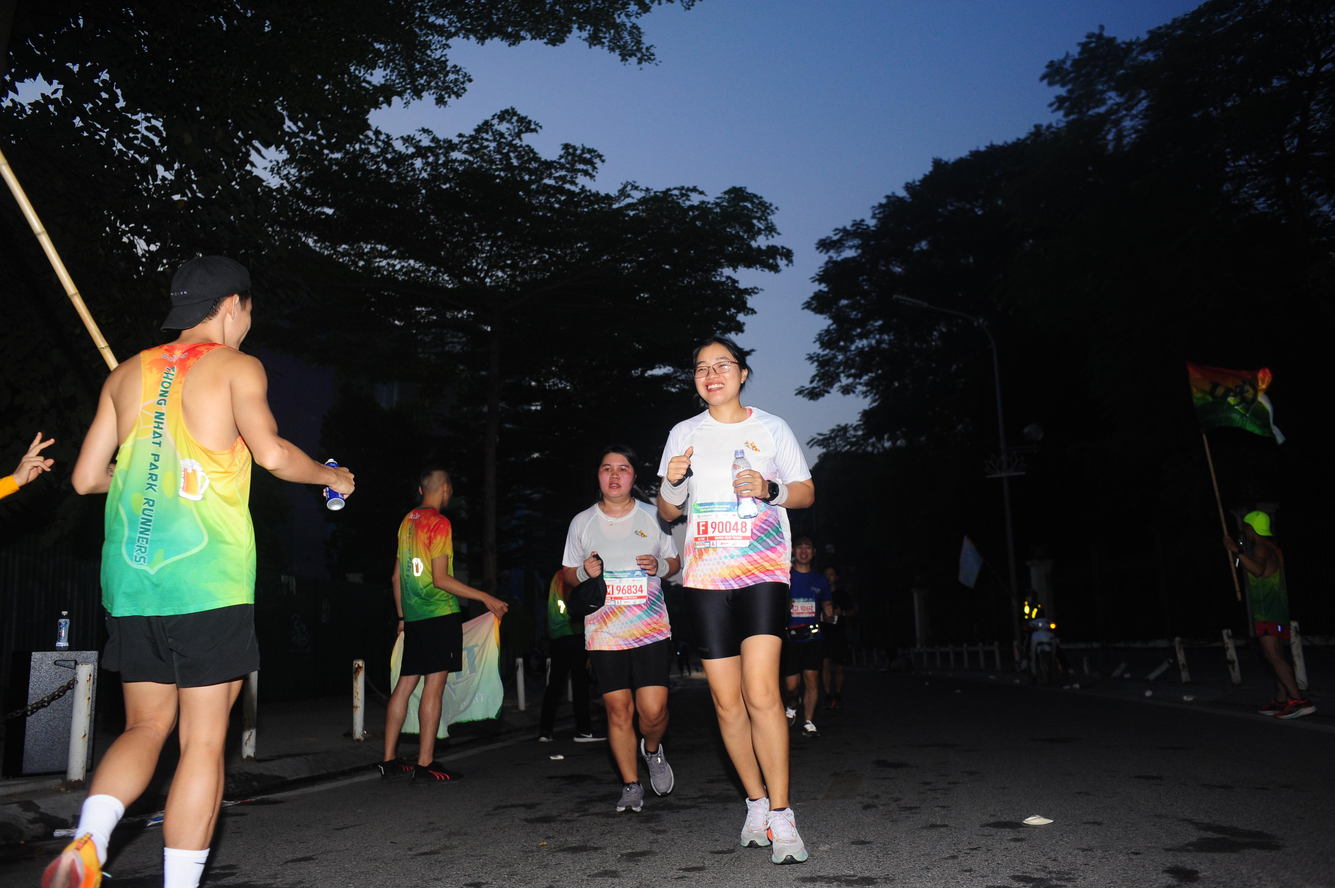bib: (693, 504, 752, 546), (604, 570, 647, 603), (790, 599, 816, 616)
